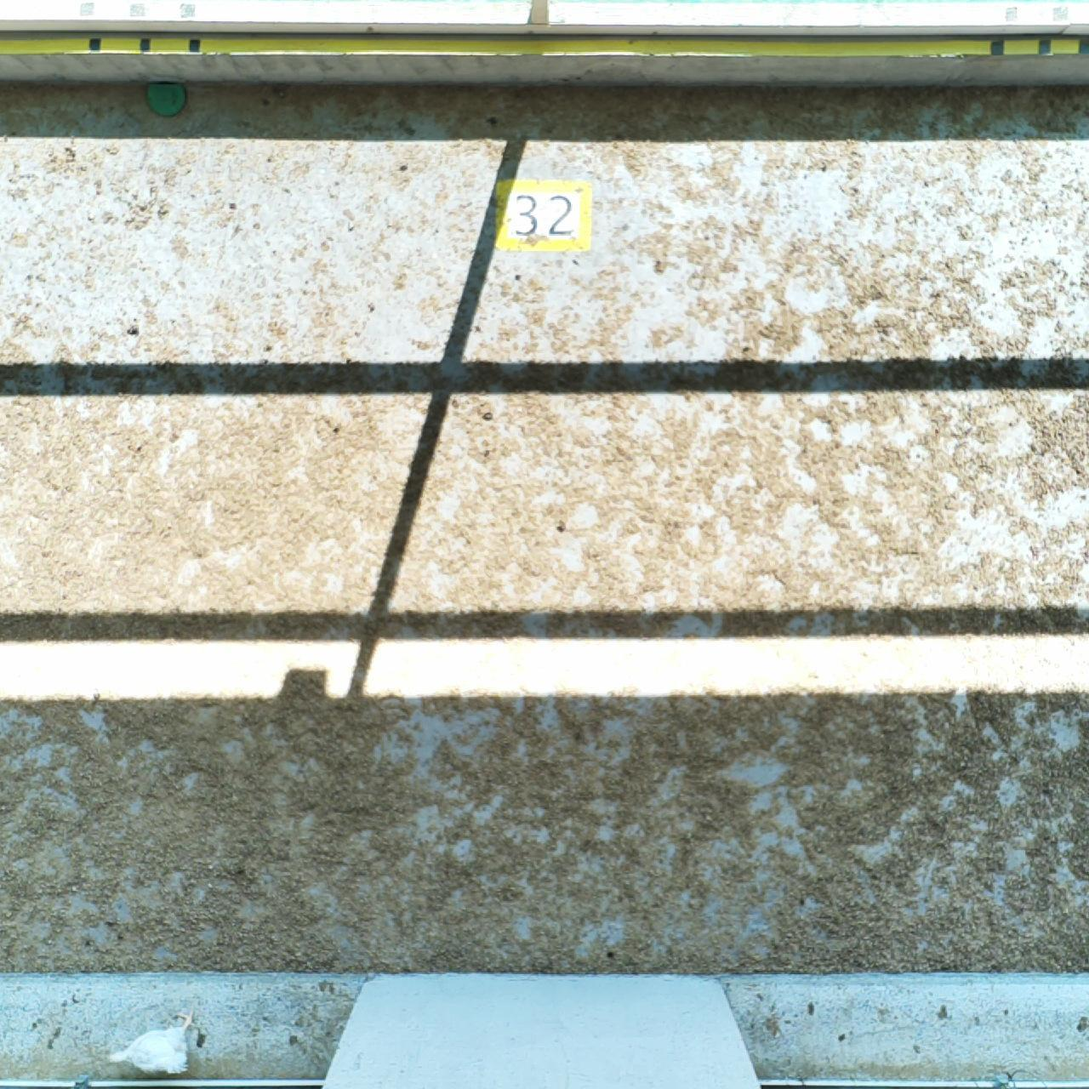chicken: (105, 1006, 207, 1081)
